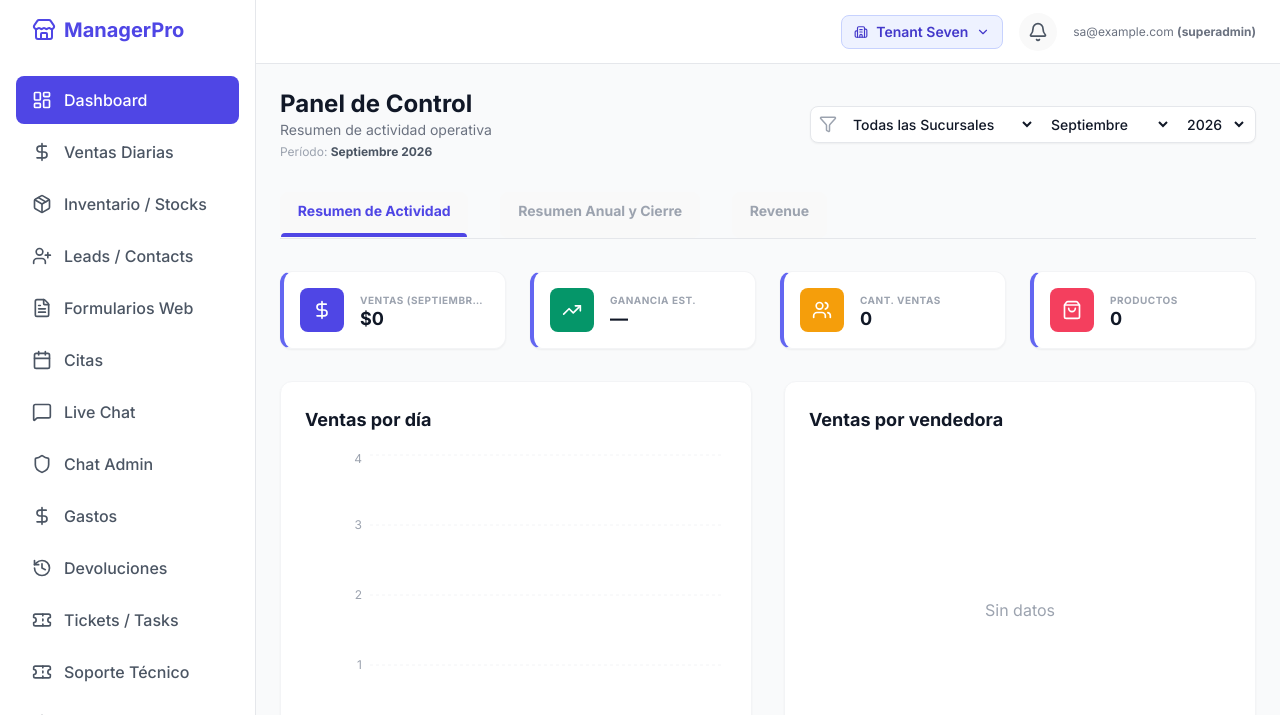
Test: Tenant selector — SuperAdmin › renders the interactive dropdown and lists the tenants from GET /api/tenants
Expected: the text "Tenant Seven" is shown, x1=876 y1=22 x2=968 y2=42
Click the button "Tenant Seven" at [922, 32], box x1=841 y1=14 x2=1003 y2=48
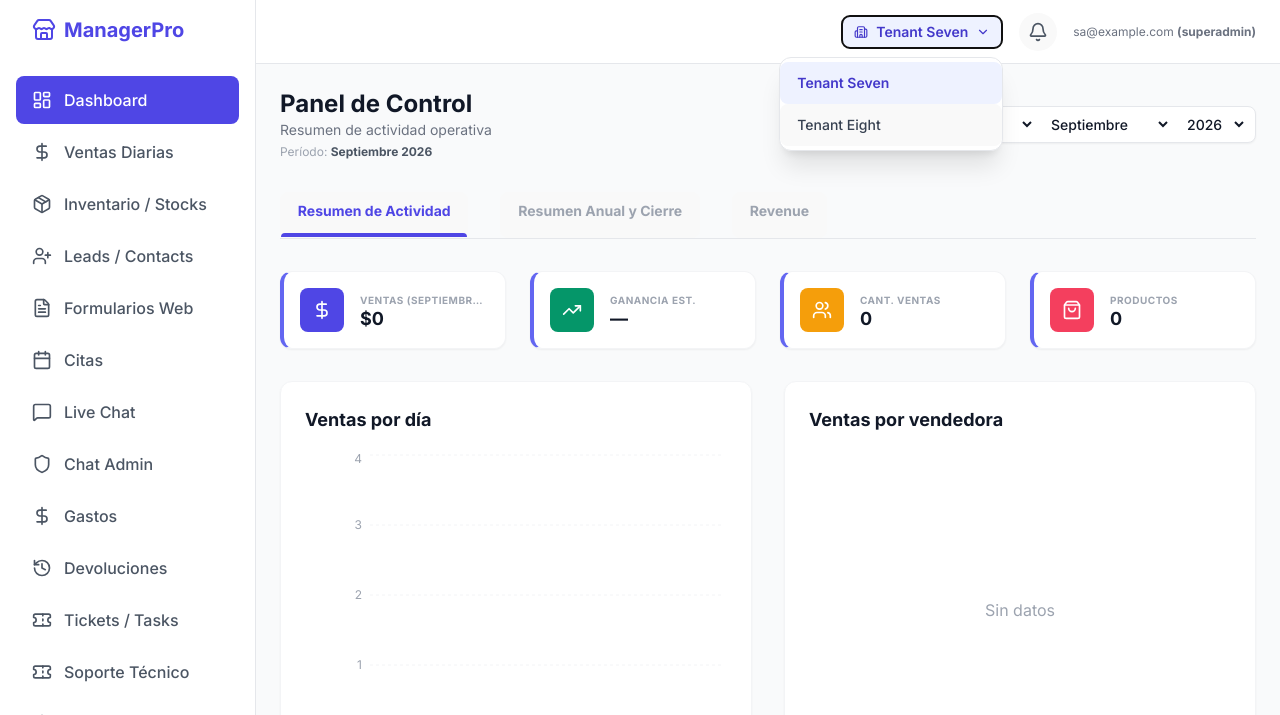
Expected: the text "Tenant Eight" is shown, x1=797 y1=114 x2=881 y2=134
